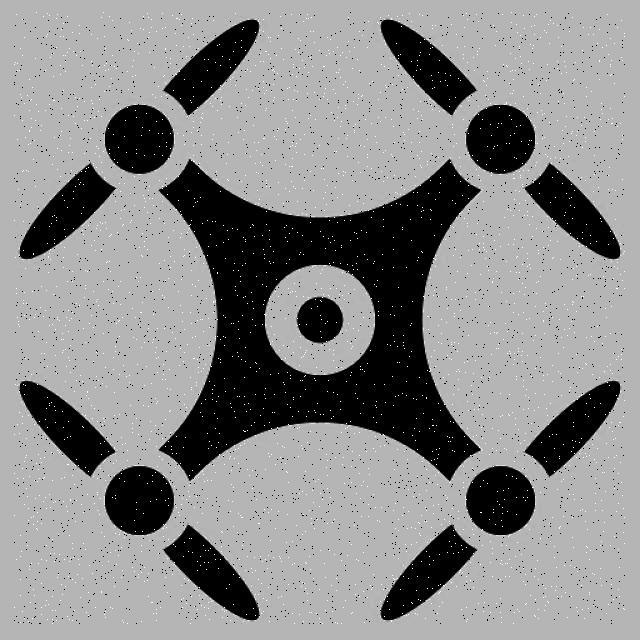drone: (15, 13, 626, 625)
